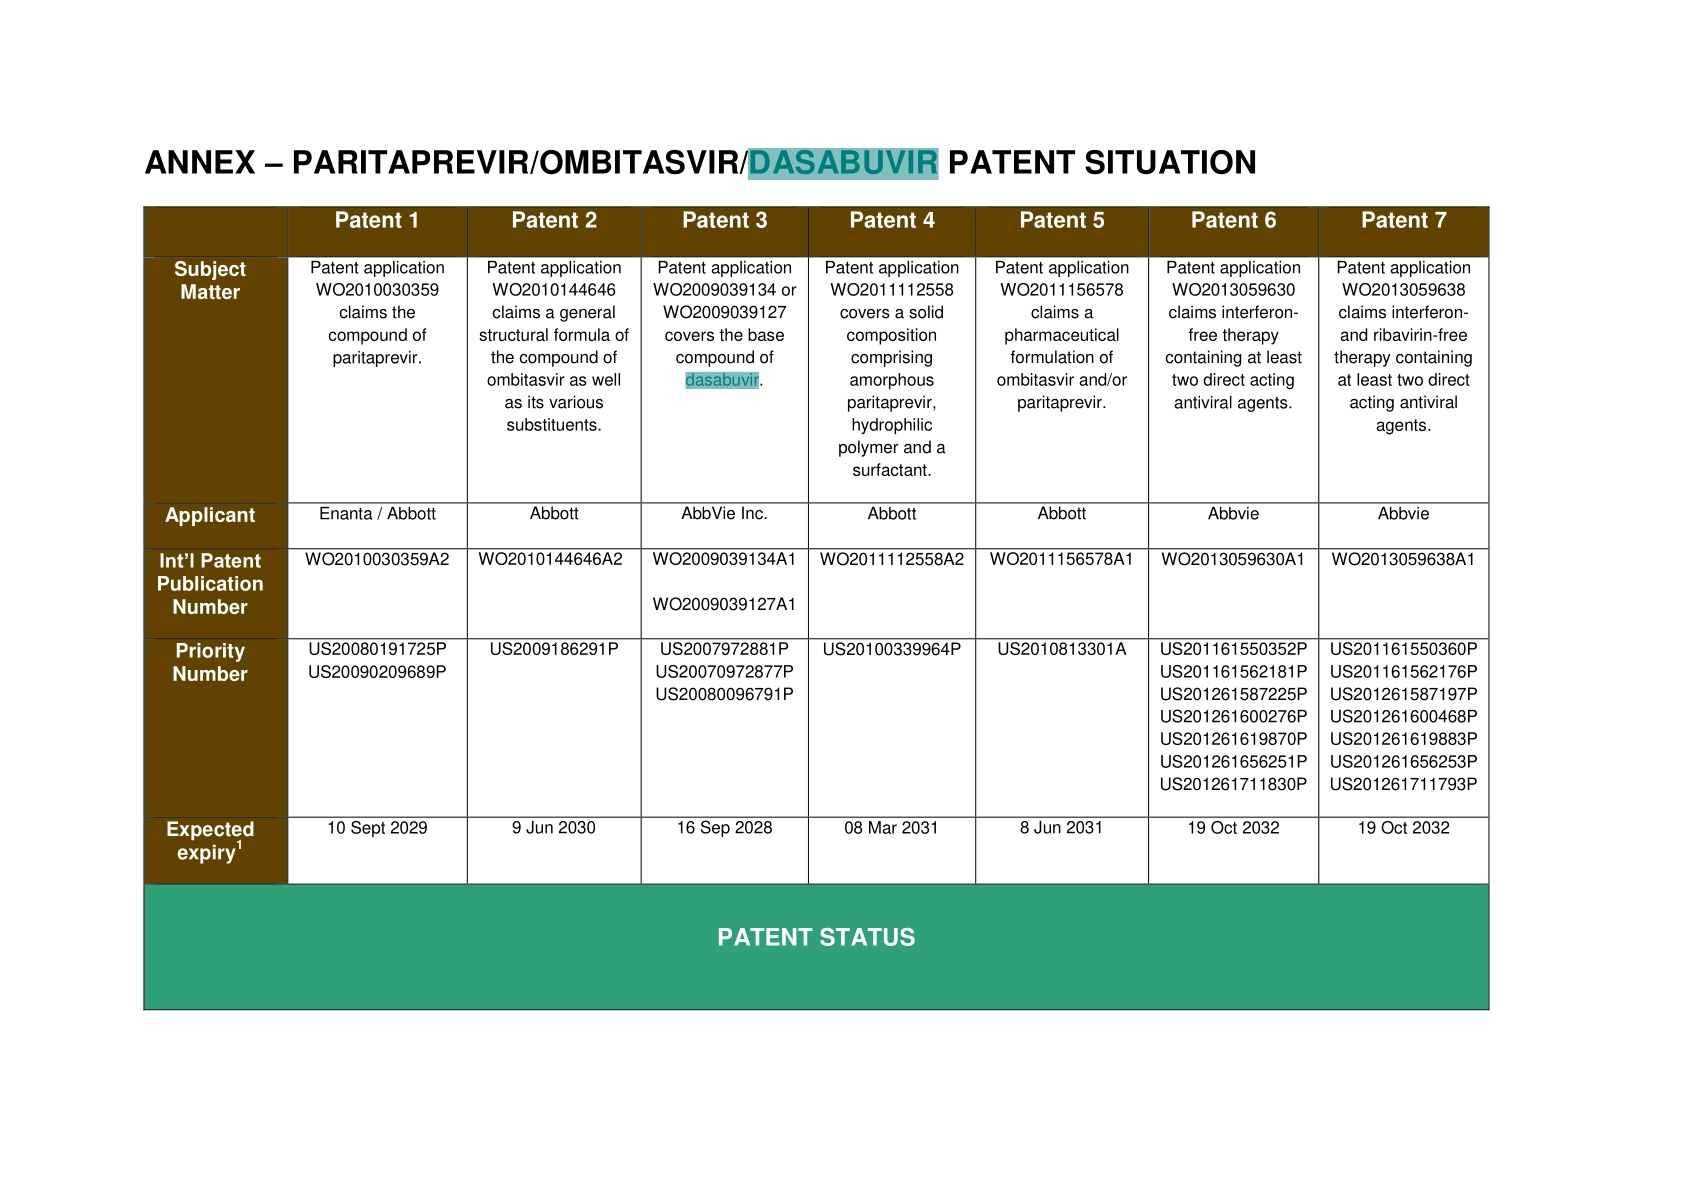merged_cells: (140, 204, 1492, 1012)
